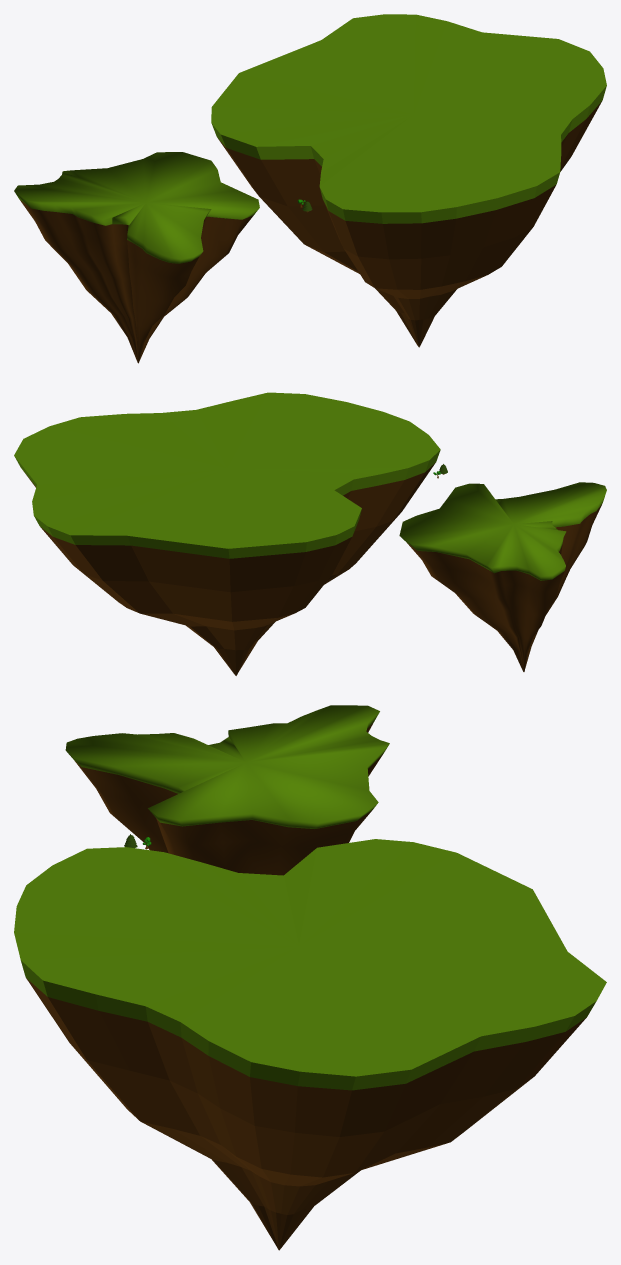
Rendered from Island_05.fbx.
The picture shows the model from 3 angles, top to bottom: view 1: azimuth 30°, elevation 25°; view 2: azimuth 150°, elevation 25°; view 3: azimuth 270°, elevation 25°; orthographic projection. The views are drawn at different scales.
Visible parts, largest first — view 1: sky island 2.001, sky island 2, Vert.001, sky island 1; view 2: sky island 2.001, sky island 2, Vert.001, sky island 1; view 3: sky island 2.001, sky island 2, Vert.001, sky island 1.
Boxes of the visible parts, box(x1,y1,x2,y2) form: sky island 2.001: box(211, 14, 606, 223); sky island 2: box(218, 101, 601, 347); Vert.001: box(14, 152, 259, 263); sky island 1: box(19, 199, 253, 363); sky island 2.001: box(14, 392, 440, 558); sky island 2: box(23, 462, 435, 675); Vert.001: box(399, 482, 606, 580); sky island 1: box(407, 504, 601, 671); sky island 2.001: box(14, 839, 606, 1090); sky island 2: box(26, 978, 586, 1250); Vert.001: box(65, 705, 389, 828); sky island 1: box(74, 723, 382, 875).
Bounding box in the file's own units: 18753 × 7152 × 12512.
